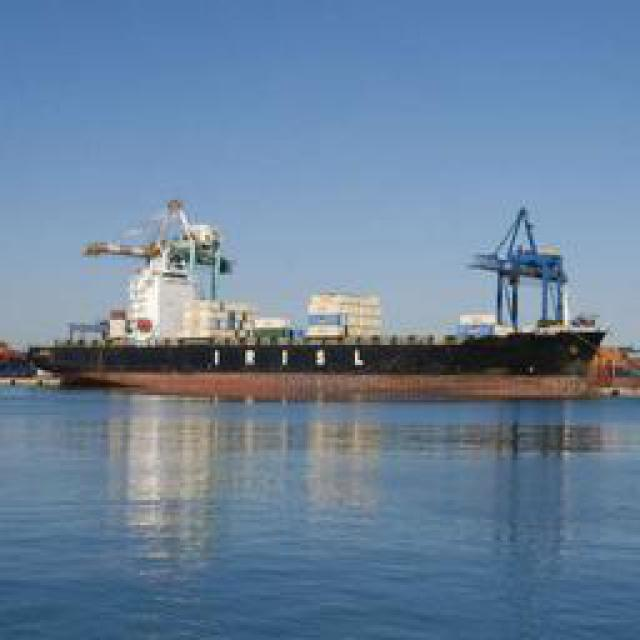Ship: (34, 192, 614, 395)
